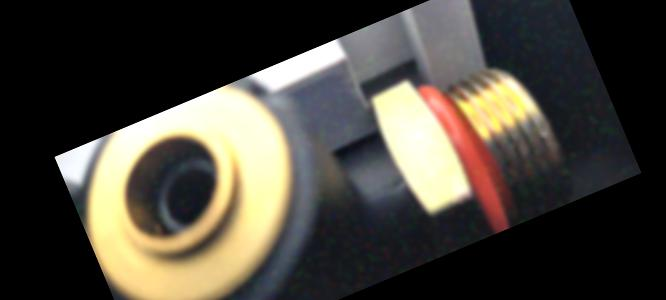bump: (241, 73, 275, 106)
joint line: (360, 182, 390, 201)
white mark: (392, 177, 406, 190)
